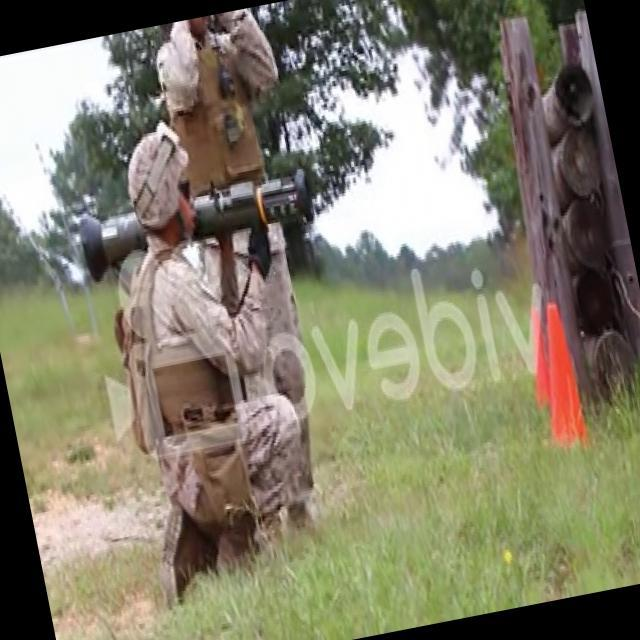rocket: (73, 169, 320, 283)
